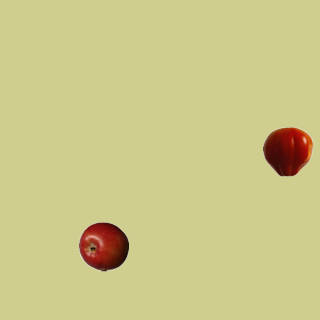Apple Braeburn: (78, 221, 128, 271)
Tomato 1: (262, 126, 312, 176)
